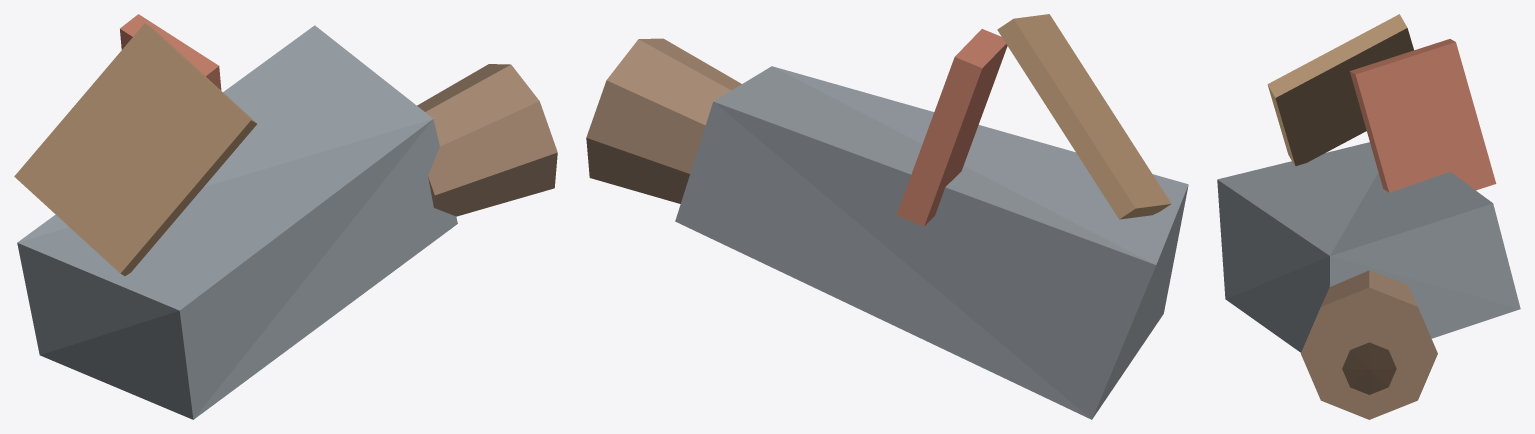
Rendered from tarhut_destroco_2.glb.
3 views of the same model, side by side, from view 1: azimuth 30°, elevation 25°; view 2: azimuth 150°, elevation 25°; view 3: azimuth 270°, elevation 25° (orthographic). The views are drawn at different scales.
Visible parts, largest first — view 1: destroco; view 2: destroco; view 3: destroco.
Boxes of the visible parts, box(x1,y1,x2,y2) form: destroco: box(14, 14, 557, 419); destroco: box(586, 14, 1188, 419); destroco: box(1217, 14, 1520, 419).
Bounding box in the file's own units: 2.57 × 1.59 × 1.41.
